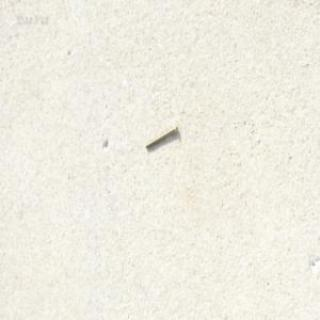Bolttrack_idkeyframe: (144, 121, 176, 149)
